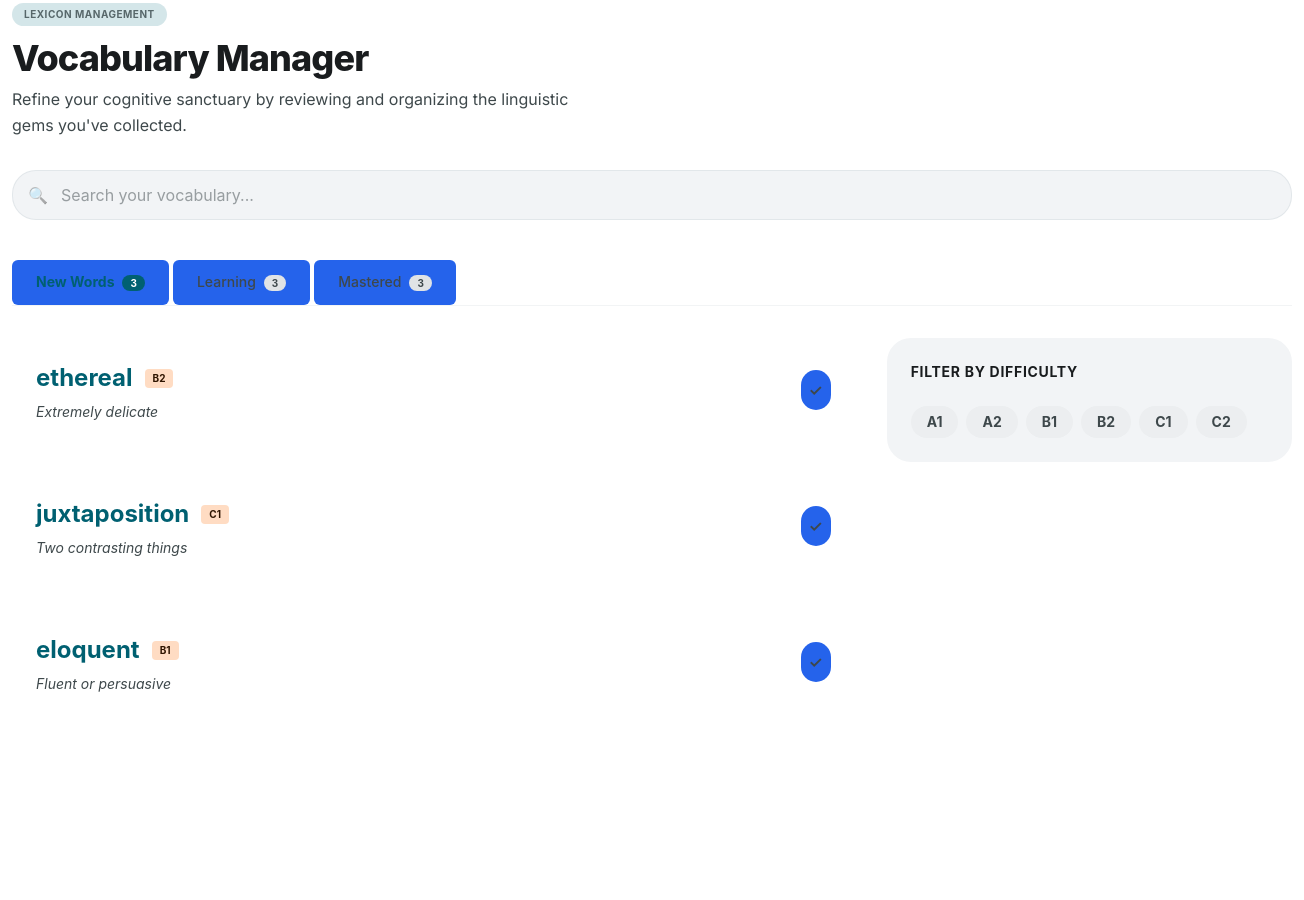
Test: VocabularyPage › filters cards by search query
Type "ethereal" into the field with test id "vocab-search-input".
click(652, 195); type("ethereal")  # box x1=12 y1=170 x2=1292 y2=220
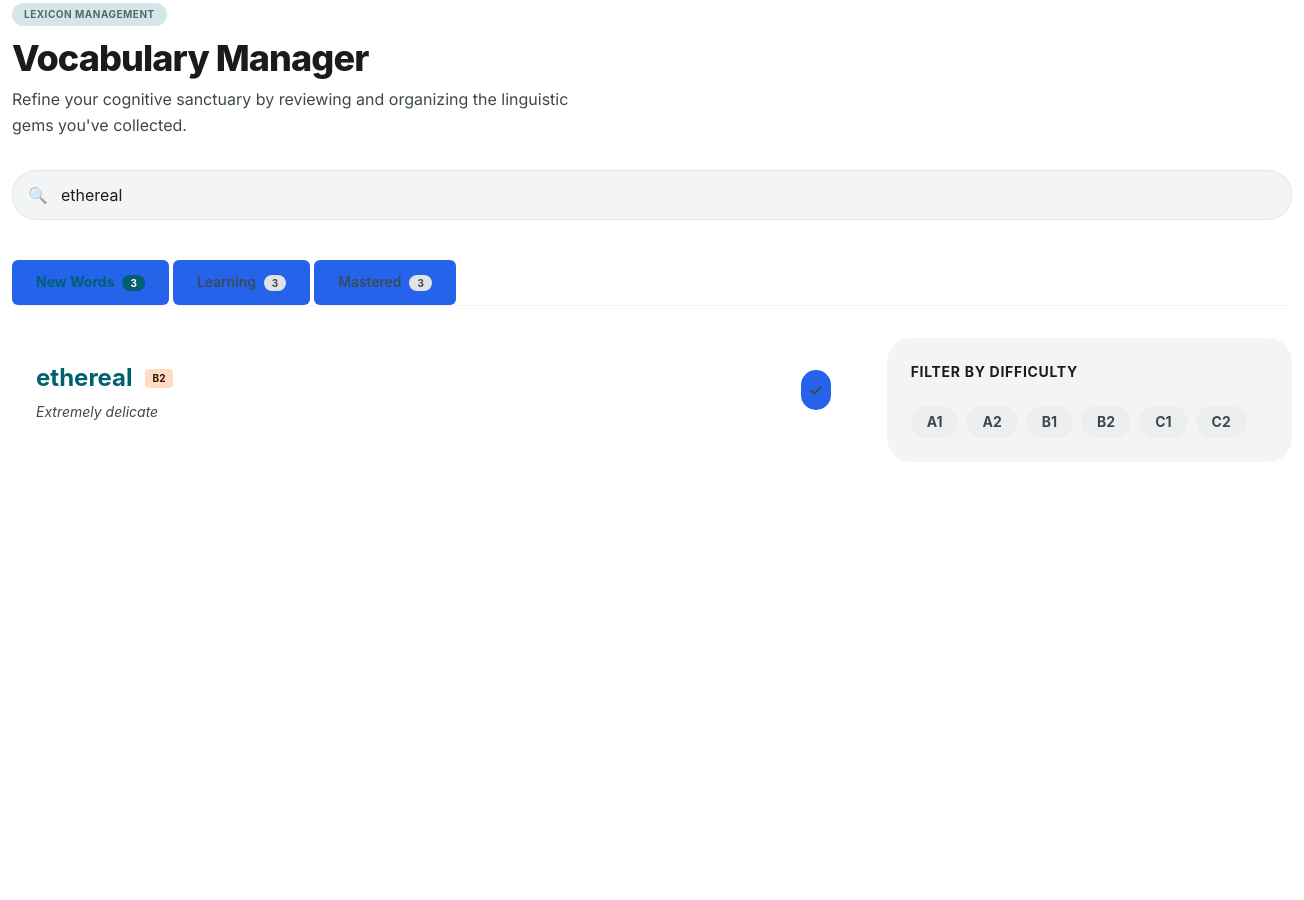
Expected: the heading "ethereal" is shown, x1=36 y1=362 x2=132 y2=394
Now the number of elements with test id "vocab-card" is 1, box x1=12 y1=338 x2=855 y2=458
